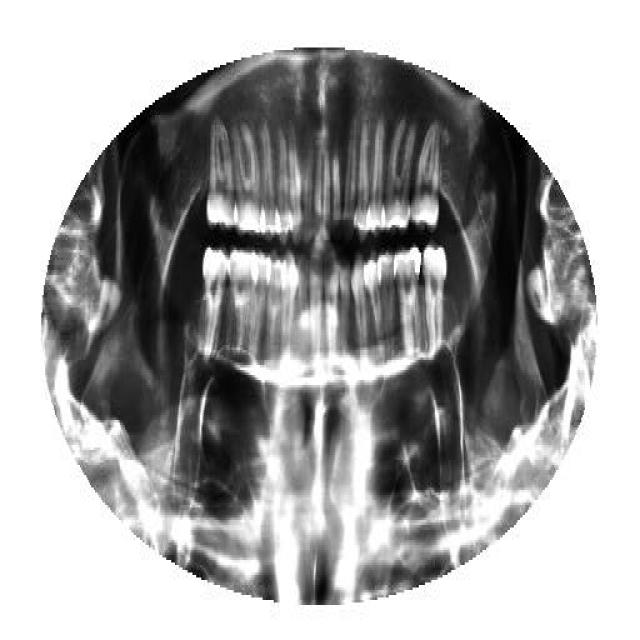Fillings: (393, 242, 422, 358)
